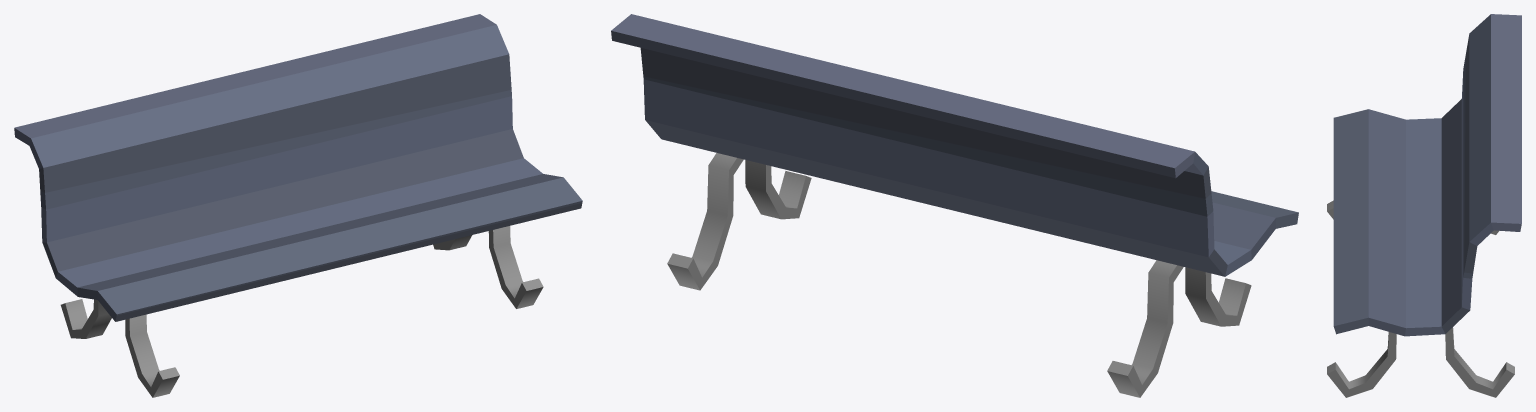
Rendered from Banco.fbx.
The picture shows the model from 3 angles, left to right: view 1: azimuth 30°, elevation 25°; view 2: azimuth 150°, elevation 25°; view 3: azimuth 270°, elevation 25°; orthographic projection. The views are drawn at different scales.
Parts seen in each view (by area): view 1: Banco; view 2: Banco; view 3: Banco.
Part boxes in pixels (x1,y1,x2,y2): Banco: (14, 14, 582, 397); Banco: (611, 14, 1298, 397); Banco: (1327, 14, 1521, 397).
Bounding box in the file's own units: 120 × 52.08 × 47.24.
